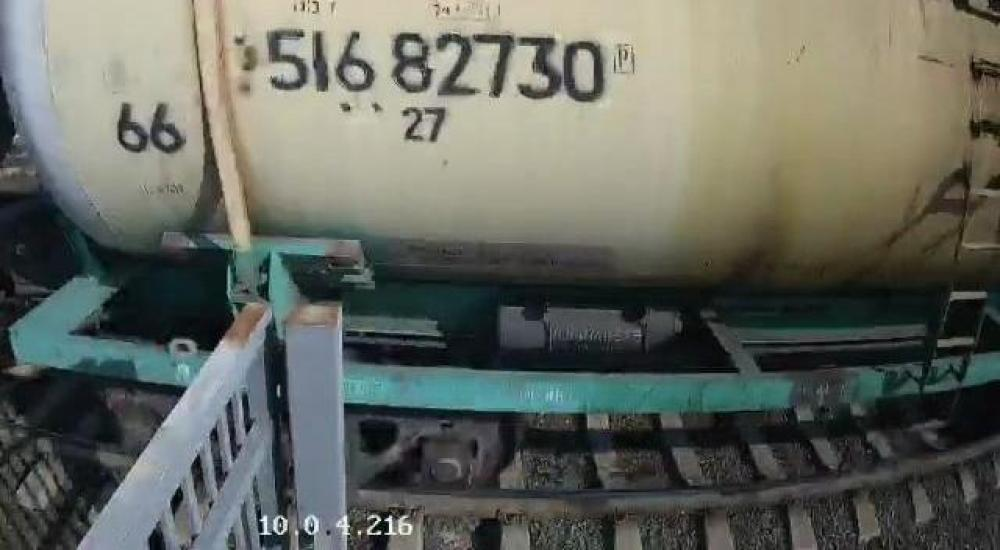Wagon-number: (264, 23, 608, 107)
